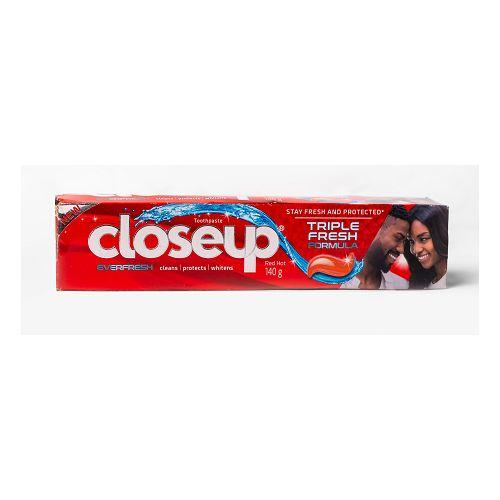CloseUp: (57, 195, 449, 288)
